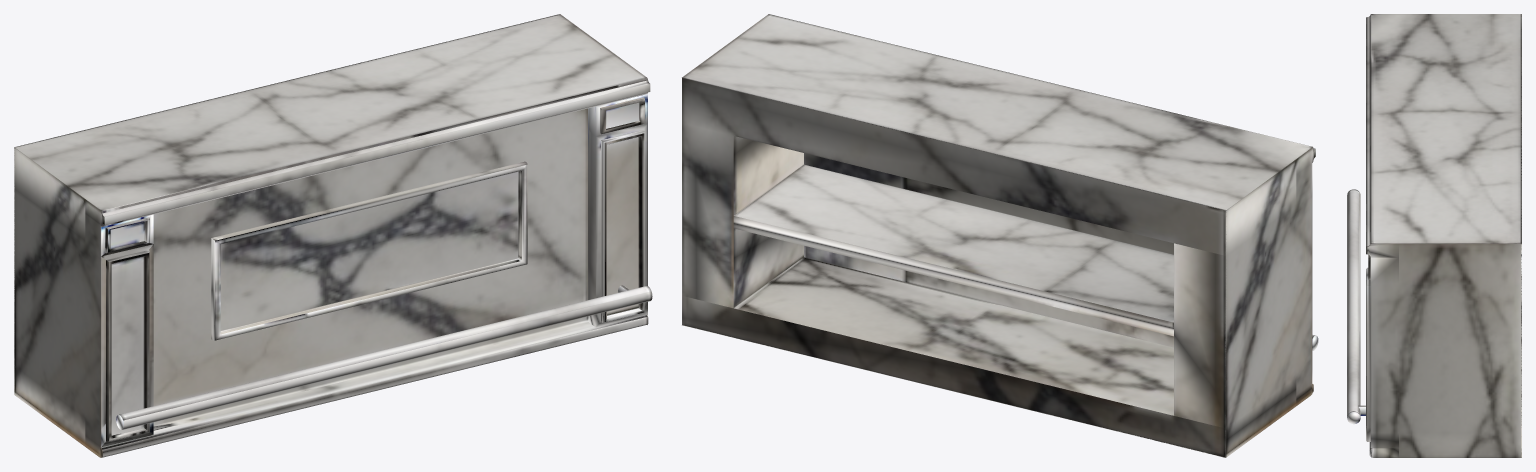
3 views of the same model, side by side, from view 1: azimuth 30°, elevation 25°; view 2: azimuth 150°, elevation 25°; view 3: azimuth 270°, elevation 25° (orthographic). The views are drawn at different scales.
Parts seen in each view (by area): view 1: 1bf163160fa34a2bac8c9c6218675478; view 2: 1bf163160fa34a2bac8c9c6218675478; view 3: 1bf163160fa34a2bac8c9c6218675478.
Part boxes in pixels (left/top/right/bottom): 1bf163160fa34a2bac8c9c6218675478: left=14, top=14, right=652, bottom=457; 1bf163160fa34a2bac8c9c6218675478: left=682, top=14, right=1318, bottom=457; 1bf163160fa34a2bac8c9c6218675478: left=1347, top=14, right=1521, bottom=457.
Size of the model in its own units: 1 by 0.4342 by 0.3213.
1 material, 1 textured.
